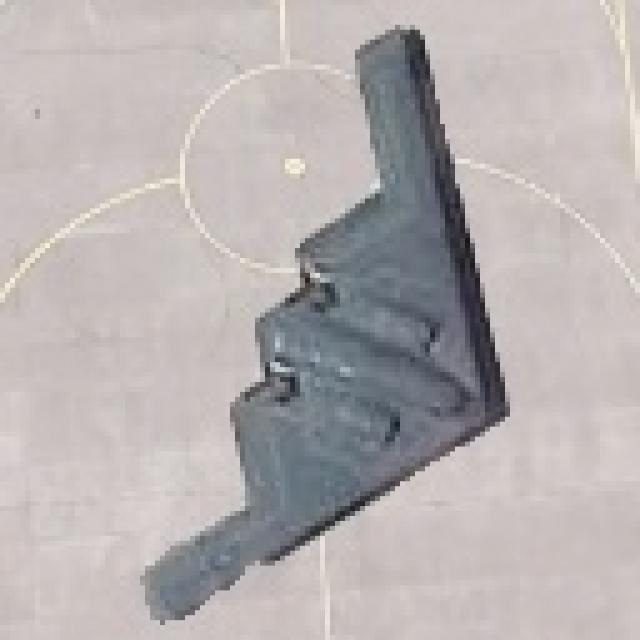B-2_TopDown: (135, 20, 510, 625)
